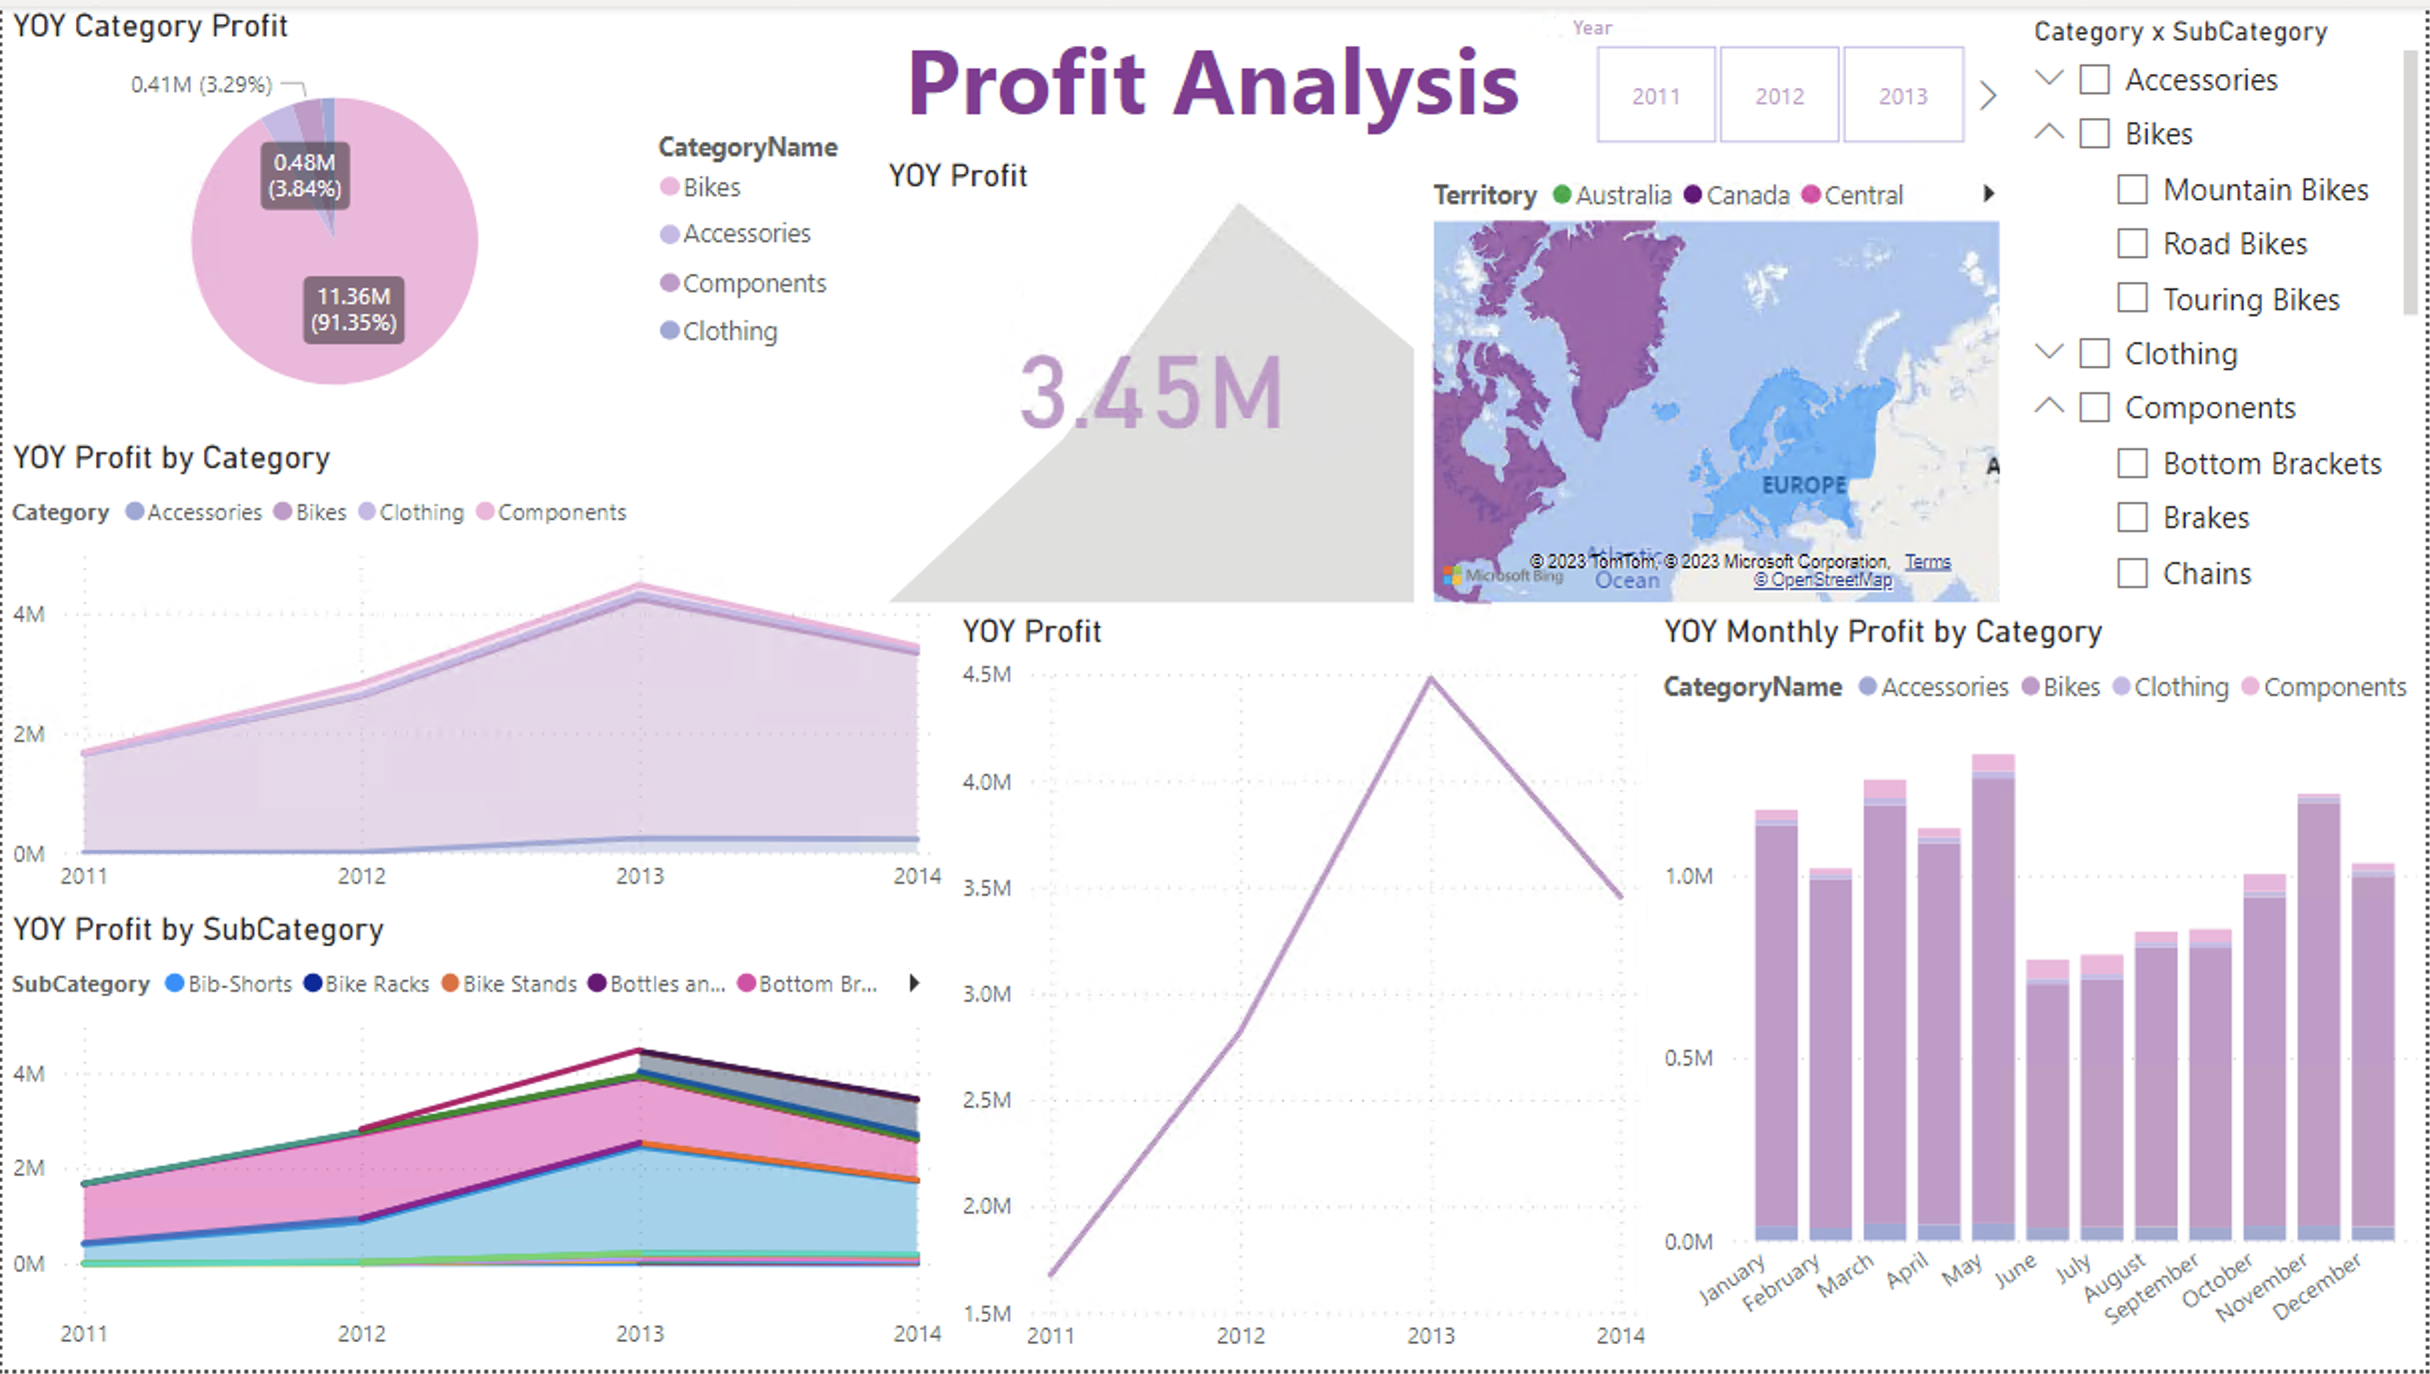

Layout of this report page (visuals, bound fields, positions):
{"tool":"powerbi","page":{"name":"Profitability Analysis","canvas":[1280,720],"ordinal":2},"visuals":[{"type":"lineChart","title":"YOY Profit","fields":{"Category":["Data.SaleDate.Variation.Date Hierarchy.Year"],"Y":["Sum(Data.Profit)"]},"box":[501.5,319.9,370.6,400.1],"z":0},{"type":"stackedAreaChart","title":"YOY Profit by SubCategory","fields":{"Category":["Data.SaleDate.Variation.Date Hierarchy.Year"],"Series":["Data.SubCategoryName"],"Y":["Sum(Data.Profit)"]},"box":[0.4,477.1,501,242.2],"z":1000},{"type":"stackedAreaChart","title":"YOY Profit by Category","fields":{"Category":["Data.SaleDate.Variation.Date Hierarchy.Year"],"Y":["Sum(Data.Profit)"],"Series":["Data.CategoryName"]},"box":[0.4,228.5,501,248.6],"z":2000},{"type":"kpi","title":"YOY Profit","fields":{"Indicator":["Sum(Data.Profit)"],"TrendLine":["Data.SaleDate.Variation.Date Hierarchy.Year"]},"box":[462.4,79.2,288.2,240.7],"z":3000},{"type":"textbox","box":[462.8,0,353.1,79],"z":4000},{"type":"slicer","fields":{"Values":["Data.CategoryName","Data.SubCategoryName"]},"box":[1059.4,0,220.6,320],"z":5000},{"type":"slicer","fields":{"Values":["Data.SaleDate.Variation.Date Hierarchy.Year"]},"box":[815.9,0,243.5,79],"z":6000},{"type":"pieChart","title":"YOY Category Profit ","fields":{"Y":["Sum(Data.Profit)"],"Category":["Data.CategoryName"]},"box":[0,0,462.4,229.1],"z":7000},{"type":"columnChart","title":"YOY Monthly Profit by Category","fields":{"Category":["Data.SaleDate.Variation.Date Hierarchy.Month"],"Y":["Sum(Data.Profit)"],"Series":["Data.CategoryName"]},"box":[872,319.9,407.5,400.1],"z":7001},{"type":"filledMap","title":"Sales & Profits","fields":{"Category":["Data.Area"],"Series":["Data.Territory"]},"box":[750.9,79,308.5,241],"z":7002}]}

Visuals, with their boxes in screenshot pixels (x1, y1, x2, y2), scaled from the page's 1280x720 canvas onto the 2430x1374 screenshot:
"YOY Profit" lineChart: Rect(952, 610, 1656, 1373)
"YOY Profit by SubCategory" stackedAreaChart: Rect(1, 910, 952, 1373)
"YOY Profit by Category" stackedAreaChart: Rect(1, 436, 952, 910)
"YOY Profit" kpi: Rect(878, 151, 1425, 610)
textbox: Rect(879, 0, 1549, 151)
slicer - Data.CategoryName x Data.SubCategoryName: Rect(2011, 0, 2429, 611)
slicer - Data.SaleDate.Variation.Date Hierarchy.Year: Rect(1549, 0, 2011, 151)
"YOY Category Profit " pieChart: Rect(0, 0, 878, 437)
"YOY Monthly Profit by Category" columnChart: Rect(1655, 610, 2429, 1373)
"Sales & Profits" filledMap: Rect(1426, 151, 2011, 611)
